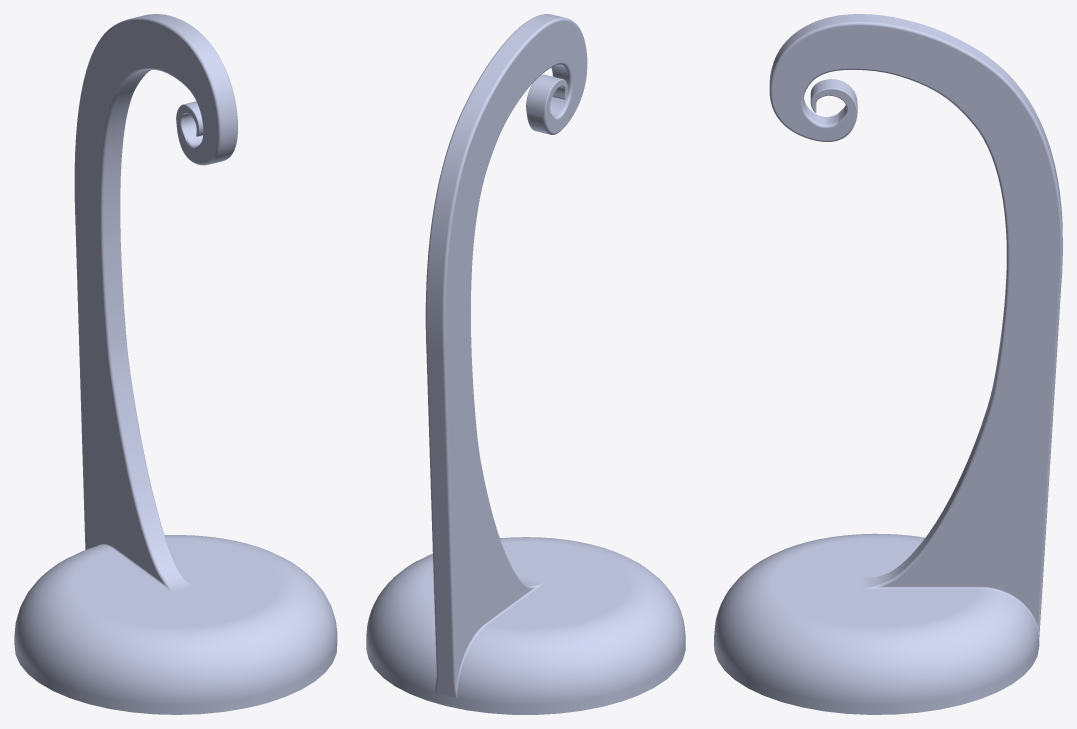
The model's file is Charm Stand.gltf.
3 views of the same model, side by side, from view 1: azimuth 30°, elevation 25°; view 2: azimuth 150°, elevation 25°; view 3: azimuth 270°, elevation 25° (orthographic).
Parts seen in each view (by area): view 1: Charm Stand; view 2: Charm Stand; view 3: Charm Stand.
Part boxes in pixels (x1,y1,x2,y2): Charm Stand: (14,14,337,714); Charm Stand: (366,14,685,714); Charm Stand: (714,14,1062,714).
Size of the model in its own units: 0.056 by 0.1194 by 0.0601.
